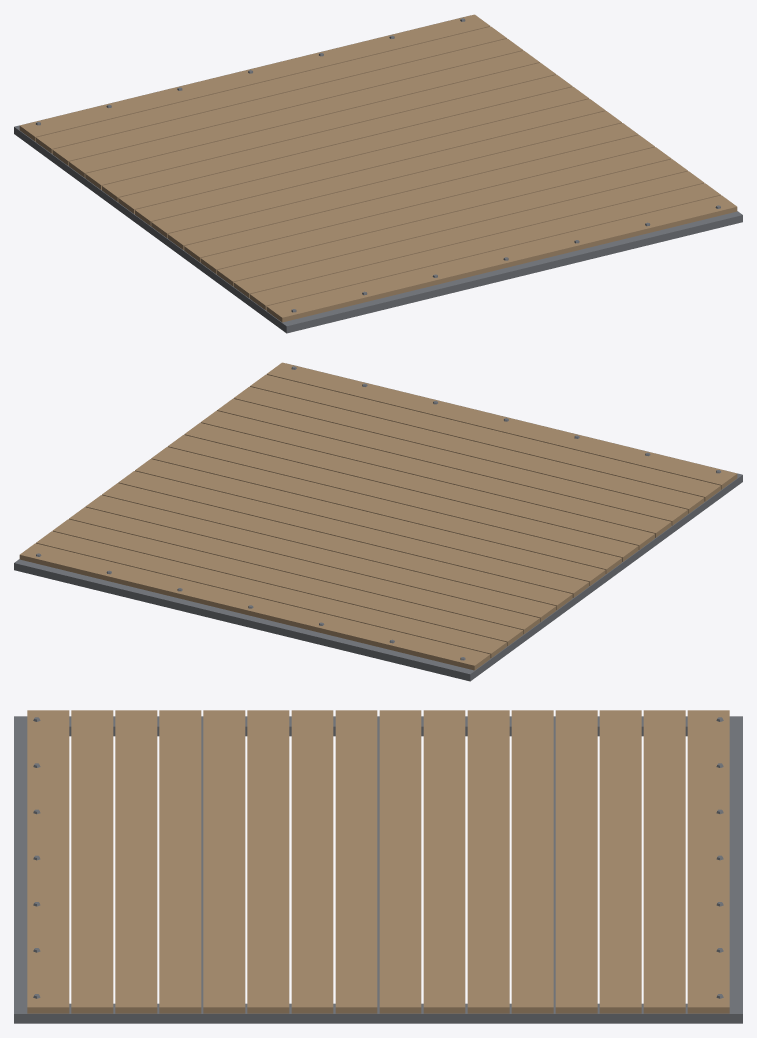
File: steampunk-airship-dock-and-workshop-shed-floor-plate-0b596e29.glb
3 renders of one model, top to bottom at view 1: azimuth 30°, elevation 25°; view 2: azimuth 150°, elevation 25°; view 3: azimuth 270°, elevation 25°, orthographic. The views are drawn at different scales.
Visible parts, largest first — view 1: shed-floor-plate; view 2: shed-floor-plate; view 3: shed-floor-plate.
Boxes of the visible parts, x1=… form: shed-floor-plate: x1=14, y1=14, x2=742, y2=333; shed-floor-plate: x1=14, y1=362, x2=742, y2=681; shed-floor-plate: x1=14, y1=710, x2=742, y2=1023.
Size of the model in its own units: 4 by 0.113 by 4.14.
